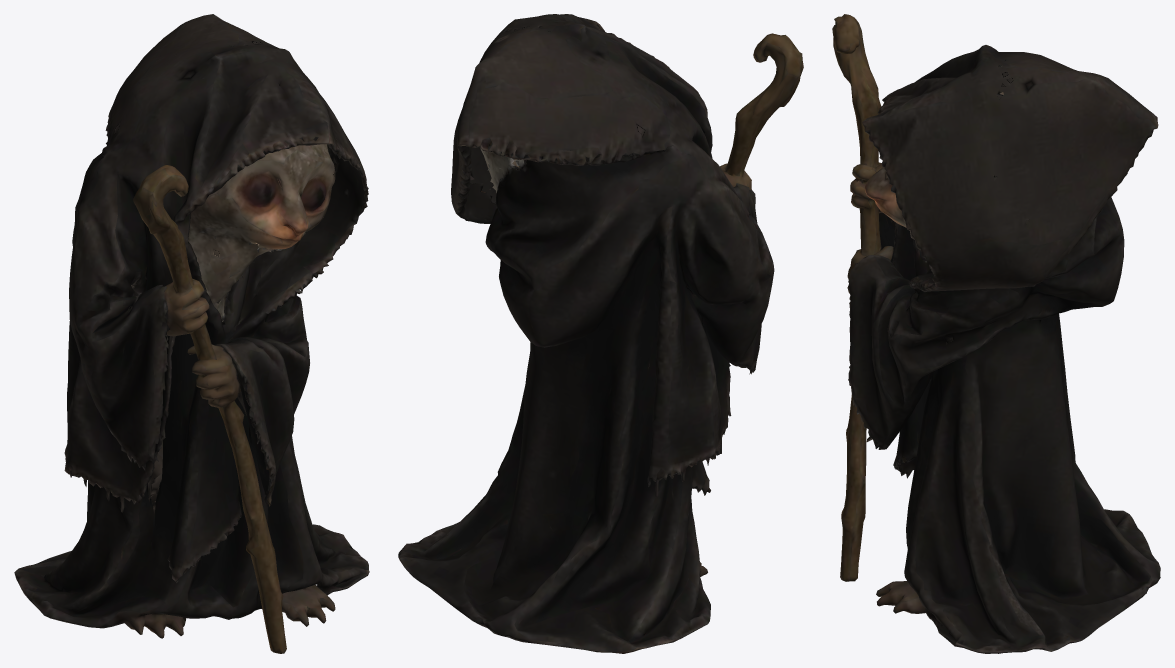
File: trellis2_gen2.glb
The picture shows the model from 3 angles, left to right: view 1: azimuth 30°, elevation 25°; view 2: azimuth 150°, elevation 25°; view 3: azimuth 270°, elevation 25°; orthographic projection.
Visible parts, largest first — view 1: world; view 2: world; view 3: world.
Part boxes in pixels (x1,y1,x2,y2): world: (14, 14, 369, 653); world: (398, 14, 803, 653); world: (832, 14, 1160, 653).
Bounding box in the file's own units: 0.6011 × 0.9998 × 0.5526.
1 material, 1 textured.
